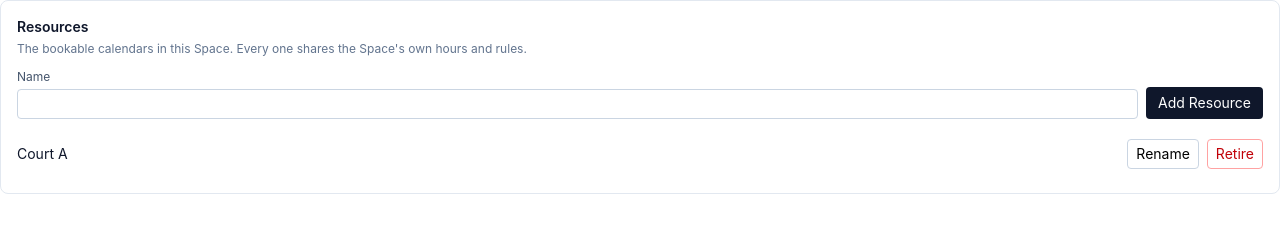
Test: ResourcesPanel › retires a Resource and the row becomes a retired row with no controls
The image size is (1280, 231).
Expected: the list item with test id "resource-1" is shown, [17, 131, 1263, 177]
Click the button with test id "resource-1-retire-start": (1235, 154) [1207, 139, 1263, 169]
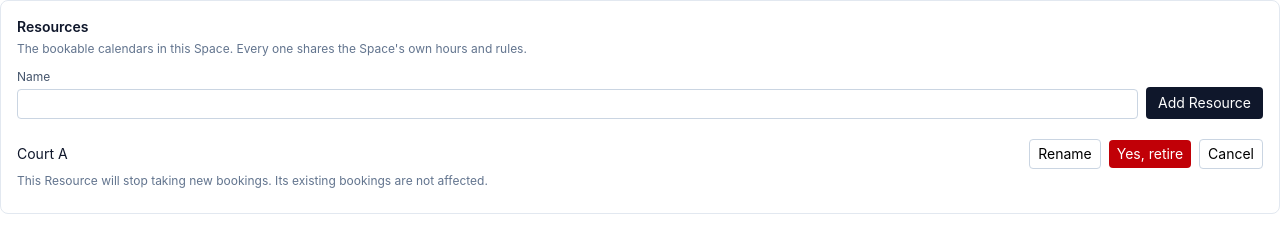
Click the button with test id "resource-1-retire-confirm-yes": (1150, 154) [1109, 140, 1191, 168]
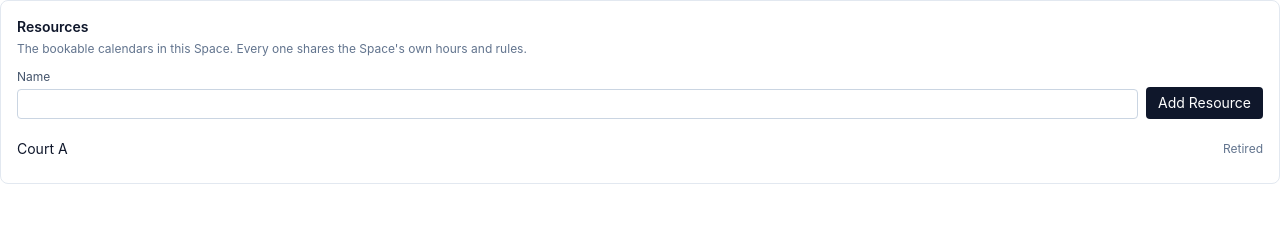
Result: the text "Retired" is shown at [1223, 141, 1263, 157]
Result: the button with test id "resource-1-rename-start" is gone
